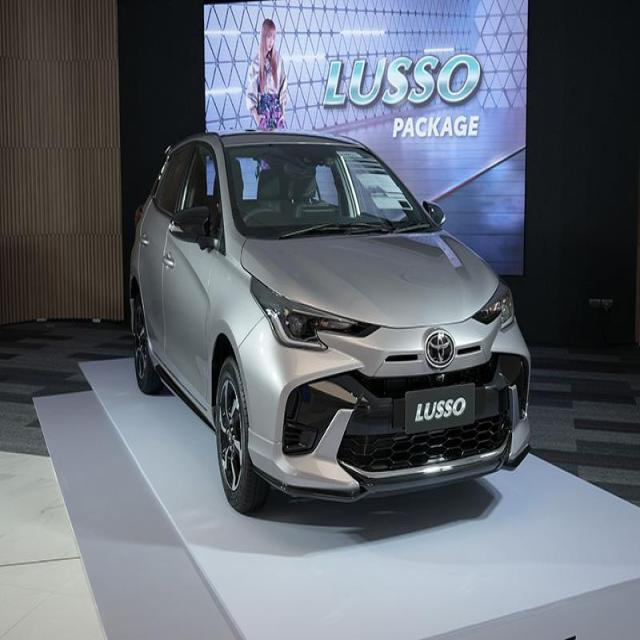Hatchback: (131, 133, 530, 512)
